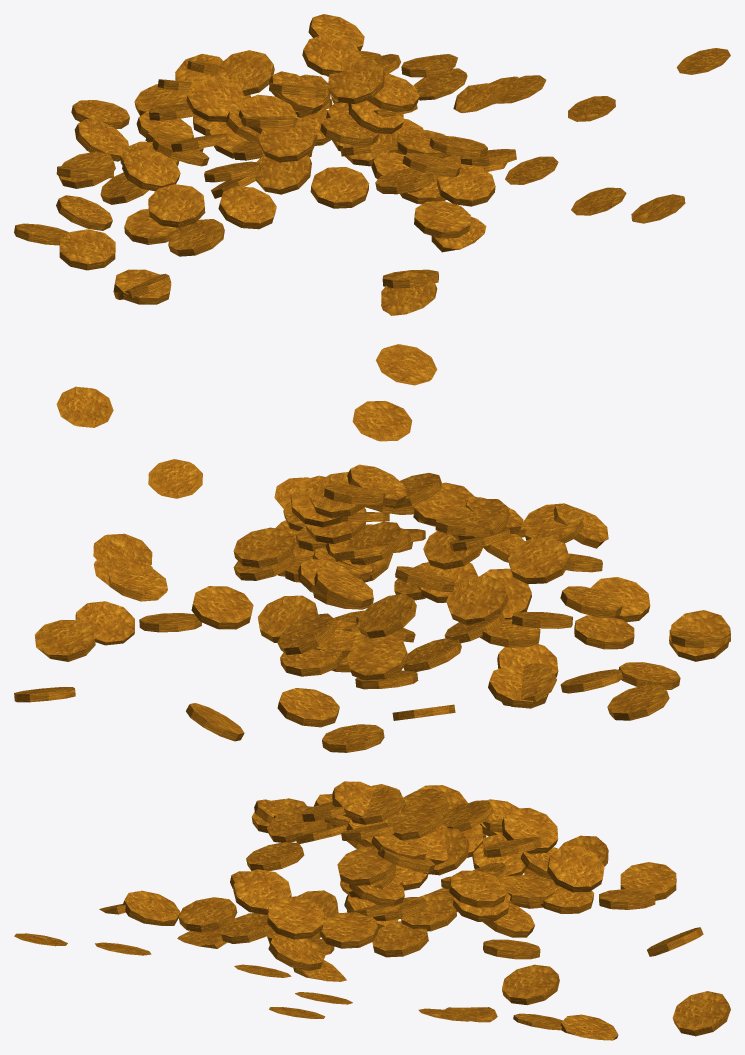
Rendered from coin-pile-v01-textured-v03.glb.
3 renders of one model, top to bottom at view 1: azimuth 30°, elevation 25°; view 2: azimuth 150°, elevation 25°; view 3: azimuth 270°, elevation 25°, orthographic. The views are drawn at different scales.
Visible parts, largest first — view 1: coin-pile; view 2: coin-pile; view 3: coin-pile.
Boxes of the visible parts, left/top/right/bottom form: coin-pile: left=14, top=14, right=730, bottom=315; coin-pile: left=14, top=344, right=730, bottom=752; coin-pile: left=14, top=781, right=730, bottom=1040.
Size of the model in its own units: 1.13 by 0.2464 by 1.1.
1 material, 1 textured.
